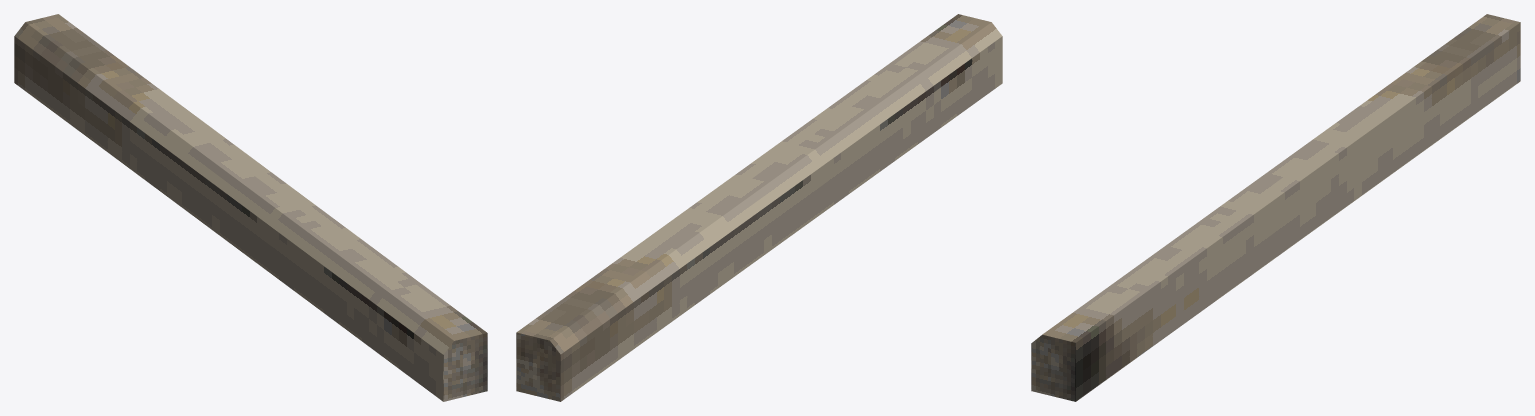
The model's file is fence_02_beam.glb.
3 views of the same model, side by side, from view 1: azimuth 30°, elevation 25°; view 2: azimuth 150°, elevation 25°; view 3: azimuth 330°, elevation 25° (orthographic).
Visible parts, largest first — view 1: fence_02_beam; view 2: fence_02_beam; view 3: fence_02_beam.
Boxes of the visible parts, x1,y1,x2,y2 form: fence_02_beam: (14, 14, 487, 401); fence_02_beam: (516, 14, 1002, 401); fence_02_beam: (1031, 14, 1520, 401).
Bounding box in the file's own units: 0.3532 × 0.4014 × 5.41.
Materials: 1 (1 with a texture image).
